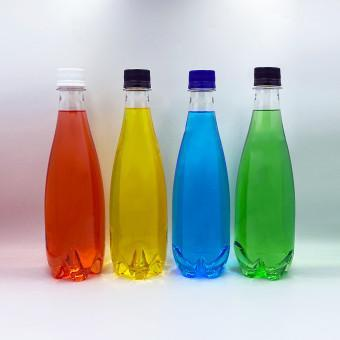bottle: (41, 65, 110, 284), (233, 67, 301, 279), (108, 64, 173, 276), (169, 67, 234, 274)
